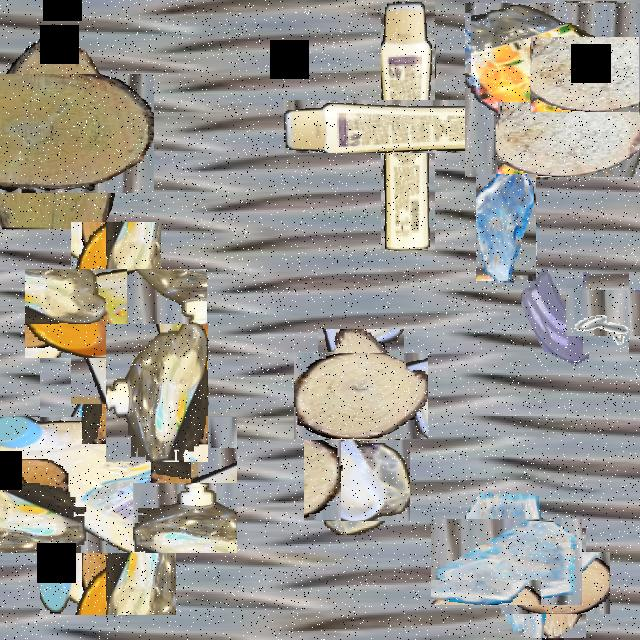glass: (446, 502, 566, 622), (521, 256, 589, 377), (476, 174, 536, 281)
metal: (574, 281, 638, 345)
plastic: (9, 387, 207, 584), (465, 2, 640, 178), (332, 50, 483, 202), (48, 245, 184, 381), (106, 324, 208, 462), (310, 433, 404, 527)
wood: (0, 56, 136, 210), (306, 341, 416, 452), (547, 19, 640, 129), (512, 540, 598, 626), (82, 362, 126, 444)
